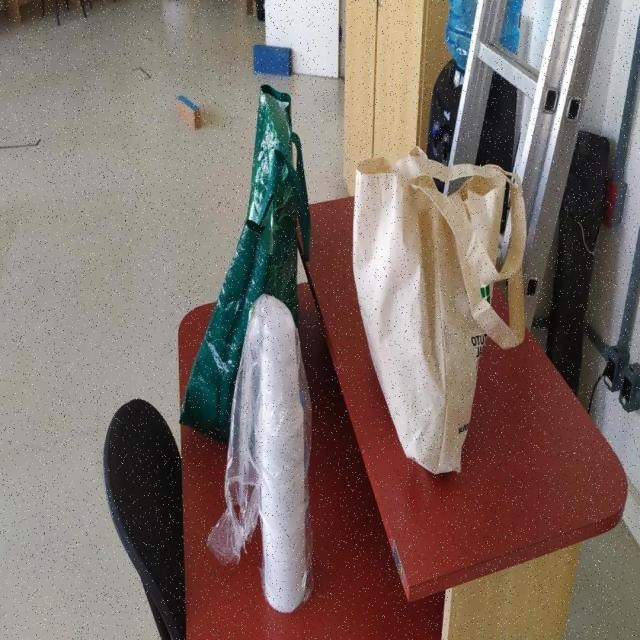Bag: (352, 144, 530, 478), (178, 84, 312, 442)
